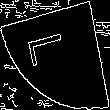L_E: (31, 34, 79, 76)
